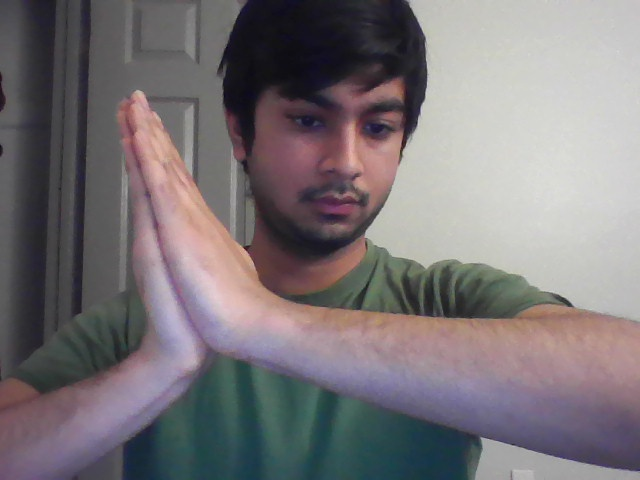start: (110, 85, 272, 380)
